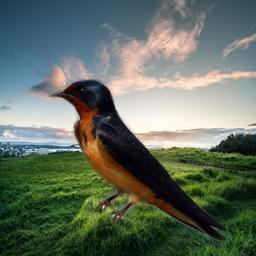Swallow: (48, 79, 228, 245)
